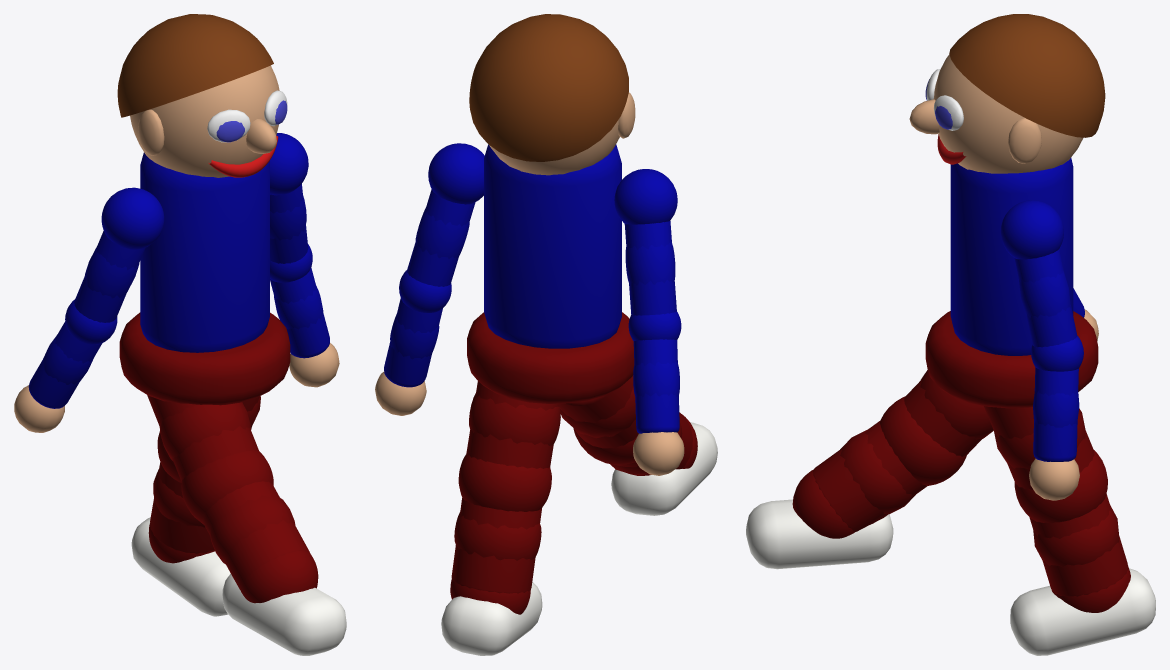
3 views of the same model, side by side, from view 1: azimuth 30°, elevation 25°; view 2: azimuth 150°, elevation 25°; view 3: azimuth 270°, elevation 25° (orthographic).
Parts seen in each view (by area): view 1: torso, hair, pelvis, head, shoe_f, shoe_n, shin_f, knee_ball_f, shoulder_ball_f, thigh_bulge_f, ankle_ball_f, thigh_f (+21 smaller); view 2: torso, hair, pelvis, shoe_n, shin_n, shoe_f, knee_ball_n, thigh_bulge_n, shoulder_ball_f, shoulder_ball_n, thigh_n, shin_bulge_n (+19 smaller); view 3: torso, hair, pelvis, head, shoe_n, shoe_f, shin_f, shin_n, knee_ball_f, shoulder_ball_n, knee_ball_n, shin_bulge_f (+15 smaller).
Part boxes in pixels (left/top/right/bottom): torso: left=140, top=152, right=269, bottom=352; hair: left=117, top=14, right=273, bottom=117; pelvis: left=119, top=312, right=290, bottom=405; head: left=130, top=65, right=279, bottom=177; shoe_f: left=222, top=574, right=346, bottom=655; shoe_n: left=131, top=517, right=230, bottom=616; shin_f: left=202, top=481, right=310, bottom=590; knee_ball_f: left=181, top=450, right=273, bottom=524; shoulder_ball_f: left=101, top=187, right=164, bottom=249; thigh_bulge_f: left=159, top=402, right=250, bottom=460; ankle_ball_f: left=240, top=550, right=318, bottom=603; thigh_f: left=147, top=395, right=258, bottom=481; torso: left=484, top=144, right=621, bottom=348; hair: left=469, top=14, right=628, bottom=161; pelvis: left=467, top=312, right=634, bottom=403; shoe_n: left=441, top=582, right=542, bottom=655; shin_n: left=451, top=497, right=541, bottom=593; shoe_f: left=611, top=422, right=717, bottom=515; knee_ball_n: left=458, top=454, right=551, bottom=511; thigh_bulge_n: left=469, top=393, right=560, bottom=445; shoulder_ball_f: left=614, top=169, right=677, bottom=224; shoulder_ball_n: left=428, top=143, right=484, bottom=204; thigh_n: left=466, top=381, right=559, bottom=468; shin_bulge_n: left=454, top=512, right=541, bottom=560; torso: left=950, top=157, right=1073, bottom=355; hair: left=949, top=14, right=1105, bottom=137; pelvis: left=925, top=311, right=1098, bottom=408; head: left=933, top=54, right=1083, bottom=173; shoe_n: left=1010, top=568, right=1155, bottom=655; shoe_f: left=746, top=499, right=893, bottom=569; shin_f: left=813, top=421, right=927, bottom=531; shin_n: left=1029, top=494, right=1128, bottom=596; knee_ball_f: left=880, top=396, right=966, bottom=485; shoulder_ball_n: left=1000, top=200, right=1063, bottom=259; knee_ball_n: left=1014, top=450, right=1107, bottom=523; shin_bulge_f: left=840, top=429, right=915, bottom=514.
Bounding box in the file's own units: 0.7838 × 1.47 × 0.8901.
